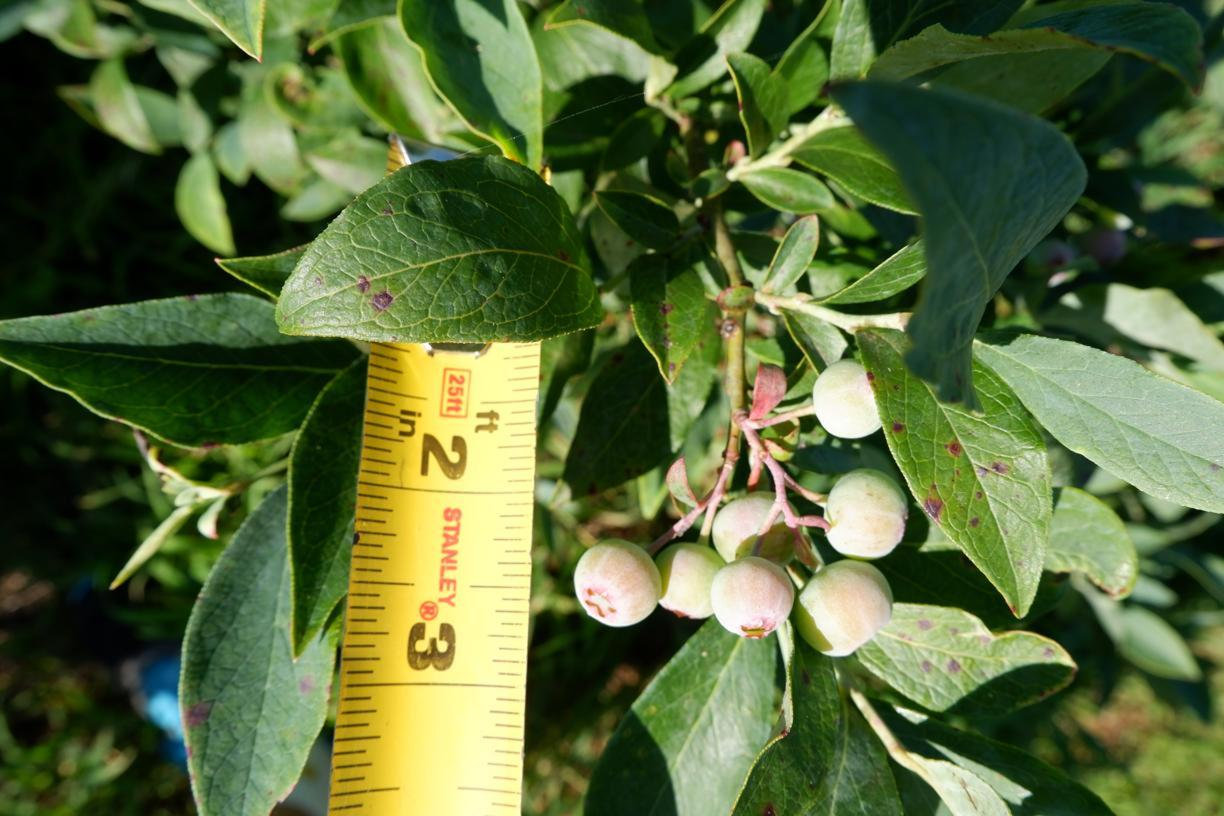Immature: (792, 560, 894, 656), (572, 538, 663, 627), (824, 471, 910, 560), (712, 490, 803, 567), (712, 557, 794, 638), (655, 541, 726, 618), (813, 360, 881, 439)
